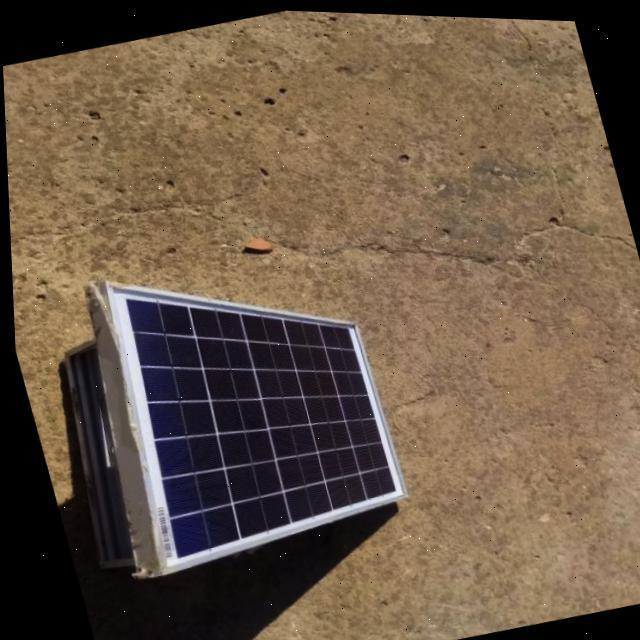Normal Solar Panel: (82, 227, 410, 579)
